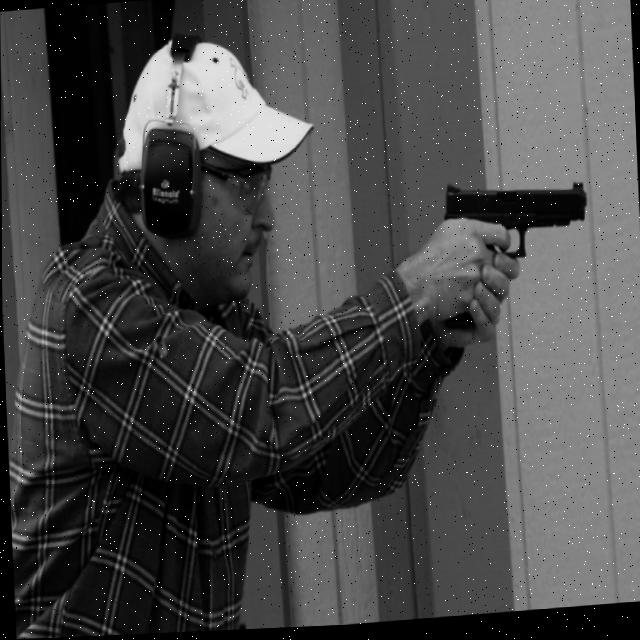pistol: (442, 179, 588, 268)
